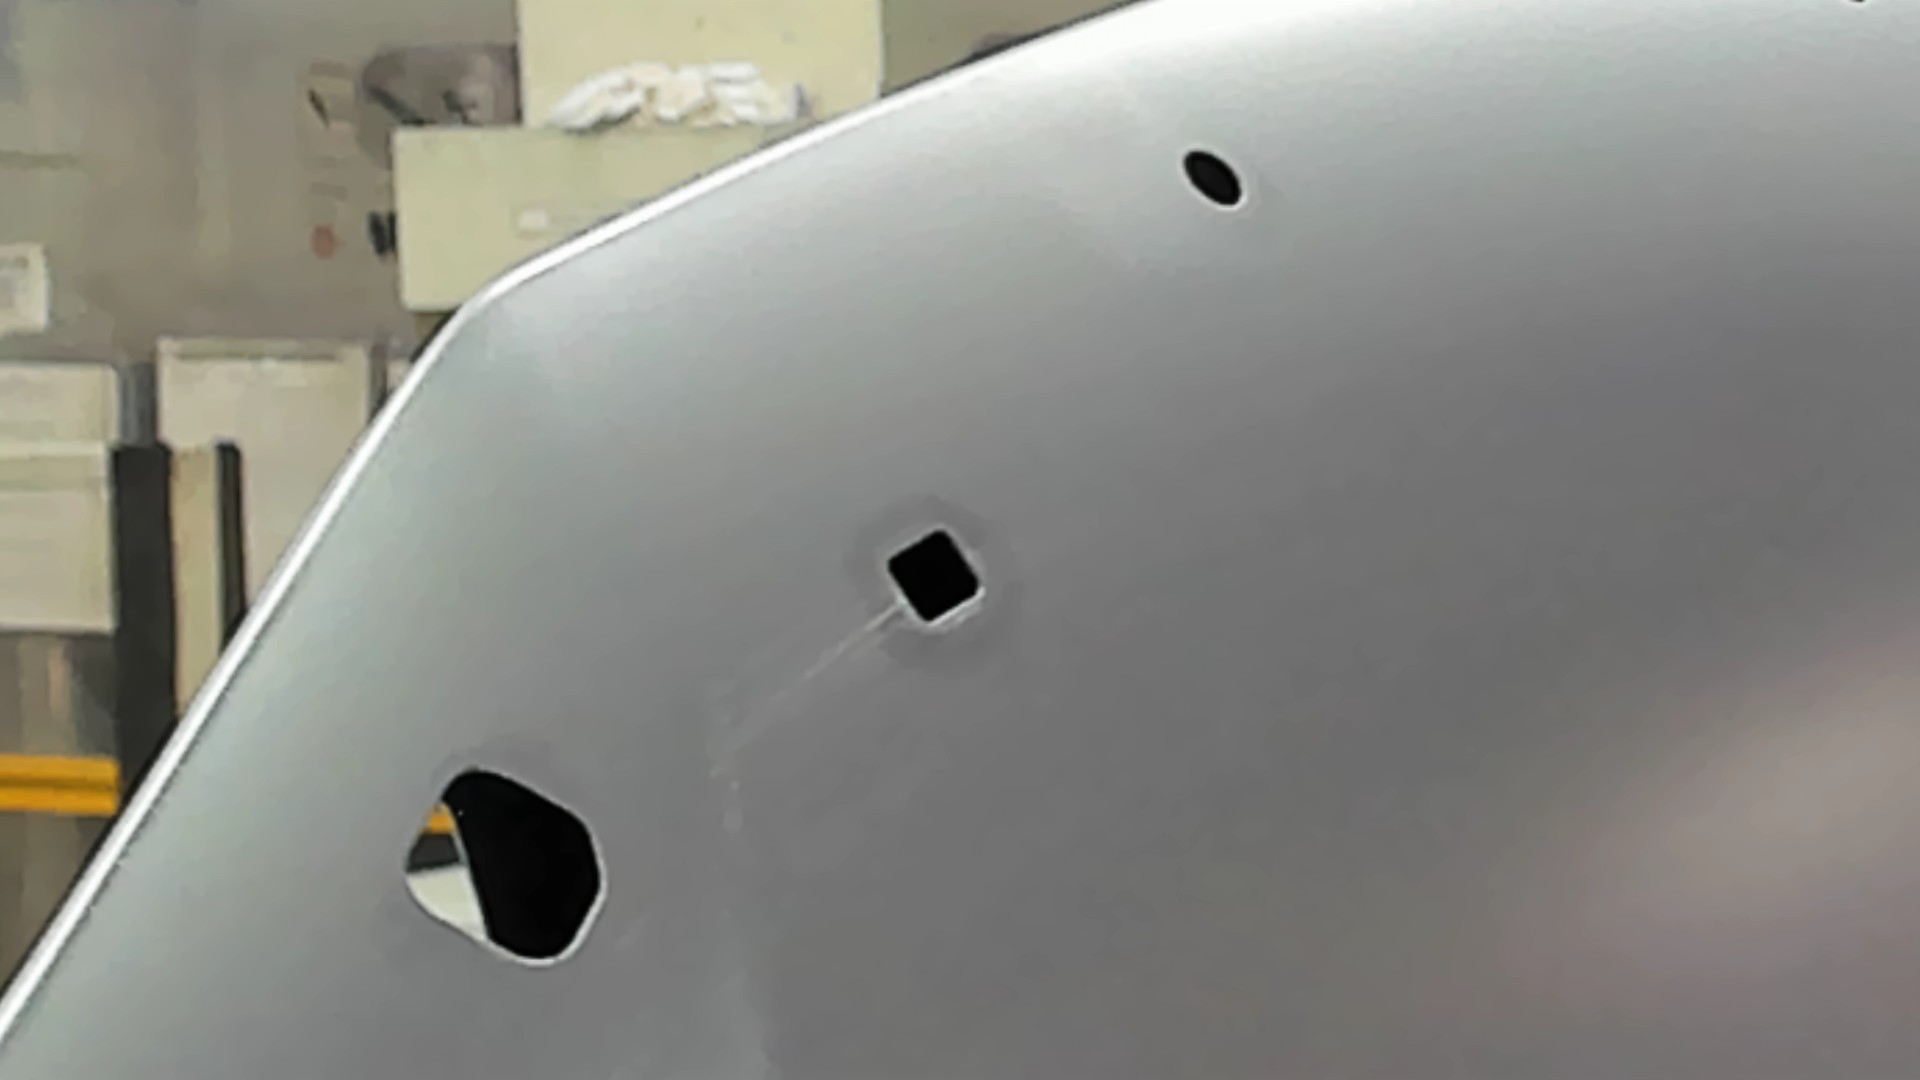chico: (1178, 141, 1247, 210)
grande: (397, 760, 611, 973)
mediano: (880, 517, 988, 633)
